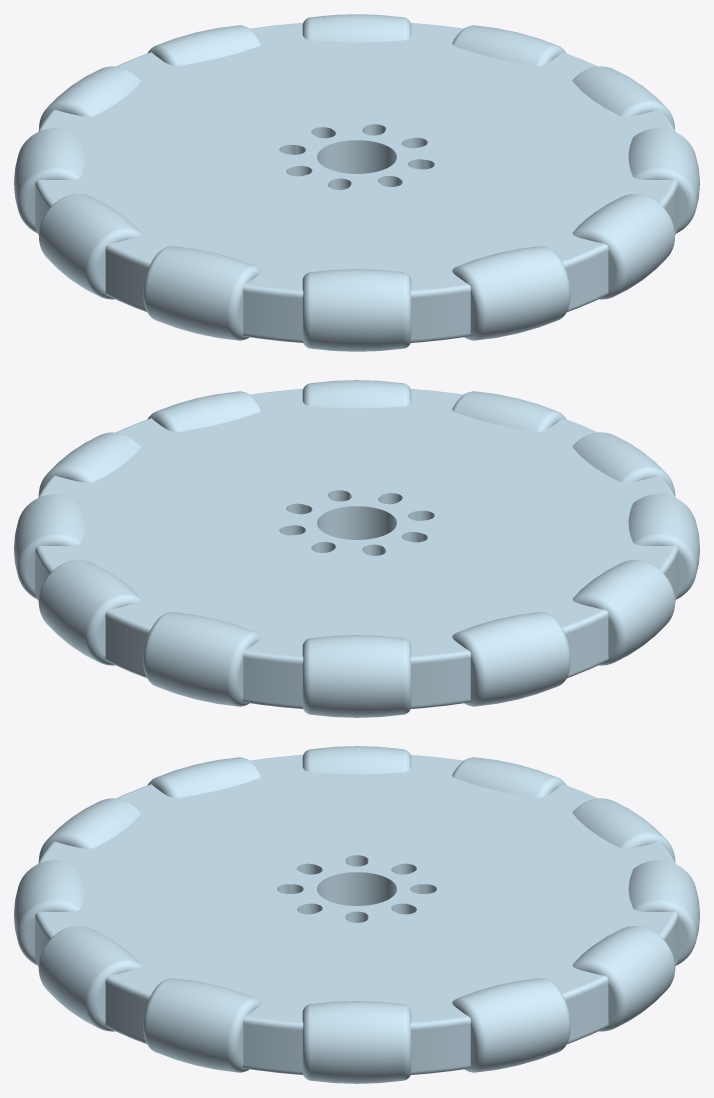
3 renders of one model, top to bottom at view 1: azimuth 30°, elevation 25°; view 2: azimuth 150°, elevation 25°; view 3: azimuth 270°, elevation 25°, orthographic.
Visible parts, largest first — view 1: mesh39, mesh72, mesh83, mesh73, mesh74, mesh82, mesh81, mesh75, mesh78, mesh124, mesh132, mesh77 (+18 smaller); view 2: mesh39, mesh80, mesh79, mesh81, mesh78, mesh82, mesh77, mesh83, mesh74, mesh188, mesh196, mesh75 (+18 smaller); view 3: mesh39, mesh76, mesh75, mesh77, mesh78, mesh74, mesh79, mesh73, mesh82, mesh156, mesh164, mesh81 (+18 smaller).
Part boxes in pixels (<box>): mesh39: <box>41,23,672,290</box>; mesh72: <box>310,269,403,351</box>; mesh83: <box>147,246,254,340</box>; mesh73: <box>459,246,566,340</box>; mesh74: <box>573,194,674,294</box>; mesh82: <box>39,194,140,295</box>; mesh81: <box>14,128,85,207</box>; mesh75: <box>628,128,699,207</box>; mesh78: <box>310,14,403,42</box>; mesh124: <box>411,292,470,339</box>; mesh132: <box>243,292,302,339</box>; mesh77: <box>455,25,555,65</box>; mesh39: <box>41,389,672,656</box>; mesh80: <box>310,635,403,717</box>; mesh79: <box>147,612,254,706</box>; mesh81: <box>459,612,566,706</box>; mesh78: <box>39,560,140,661</box>; mesh82: <box>573,560,674,661</box>; mesh77: <box>14,494,85,573</box>; mesh83: <box>628,494,699,573</box>; mesh74: <box>310,380,403,408</box>; mesh188: <box>243,658,302,705</box>; mesh196: <box>411,658,470,705</box>; mesh75: <box>158,391,258,431</box>; mesh39: <box>41,755,672,1022</box>; mesh76: <box>310,1001,403,1083</box>; mesh75: <box>147,978,254,1072</box>; mesh77: <box>459,978,566,1072</box>; mesh78: <box>573,926,674,1027</box>; mesh74: <box>39,926,140,1027</box>; mesh79: <box>628,860,699,939</box>; mesh73: <box>14,860,85,939</box>; mesh82: <box>310,746,403,774</box>; mesh156: <box>243,1024,302,1071</box>; mesh164: <box>411,1024,470,1071</box>; mesh81: <box>455,757,555,797</box>.
Size of the model in its own units: 0.12 by 0.0145 by 0.12.
